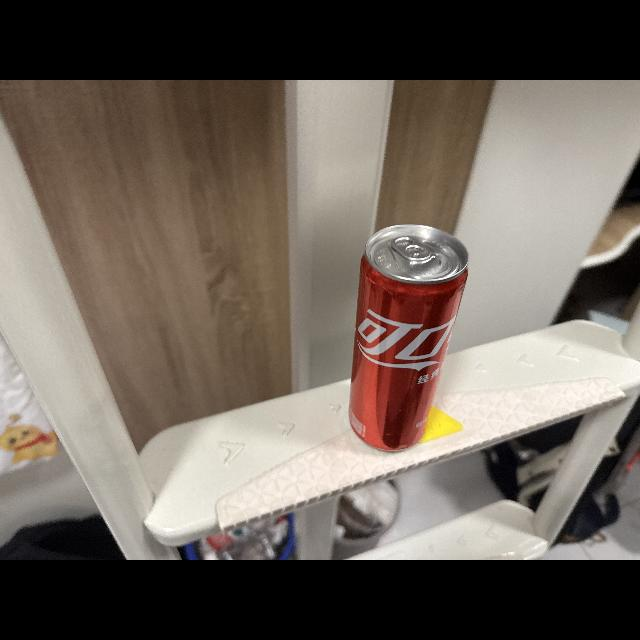Cola: (345, 222, 475, 458)
